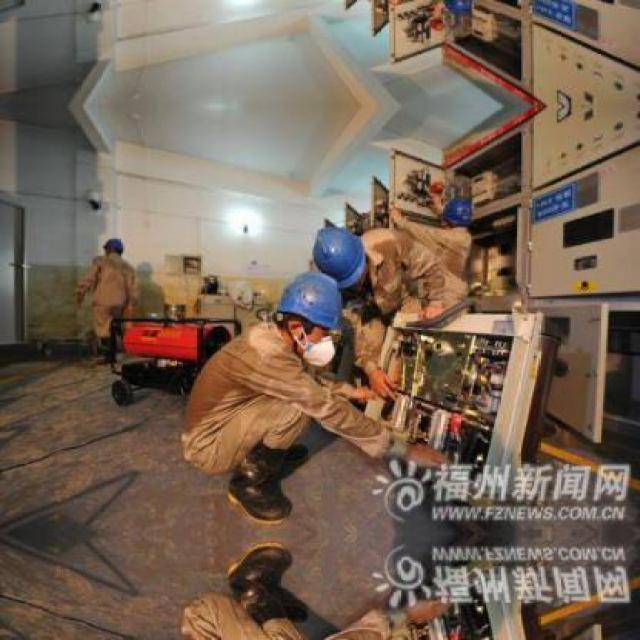boots: (227, 440, 309, 524)
hard-hat: (276, 271, 343, 329), (311, 227, 365, 289), (104, 239, 124, 253)
person: (180, 271, 451, 525), (311, 224, 471, 402), (73, 238, 139, 365)
ppe-suit: (179, 319, 393, 475), (348, 234, 480, 350), (84, 255, 136, 340)
